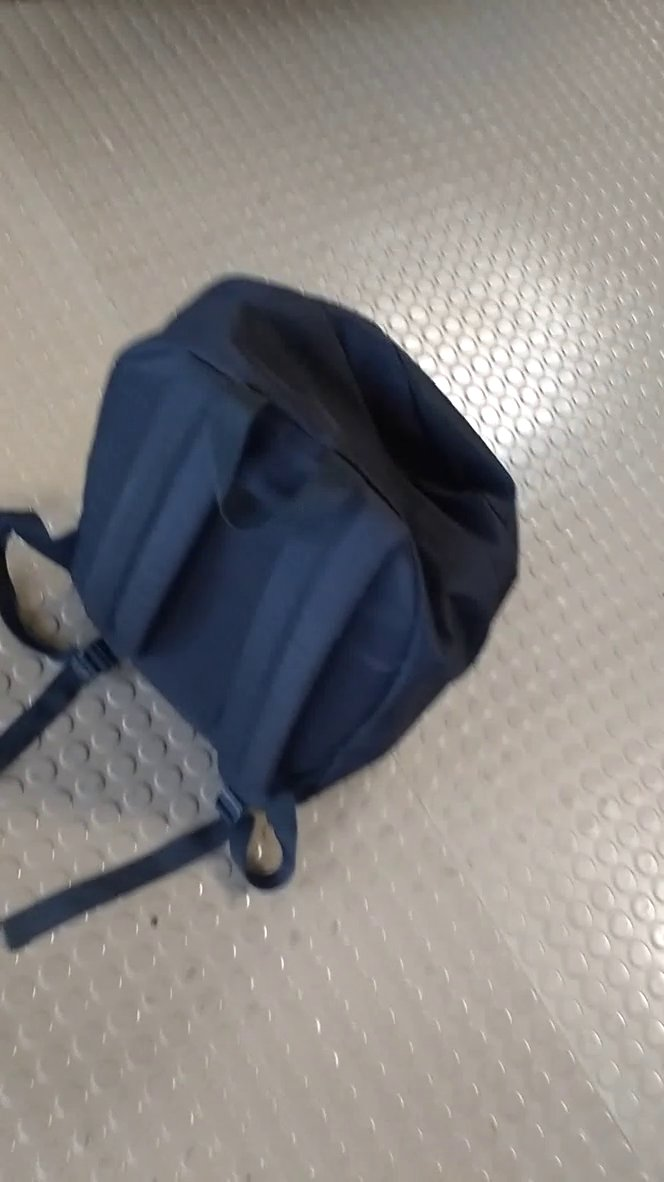bag: (1, 230, 542, 979)
